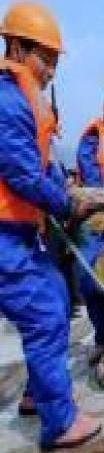boots: (48, 413, 103, 449), (18, 392, 38, 414)
hard-hat: (1, 1, 61, 53)
ppe-suit: (0, 63, 88, 447)
vest: (2, 63, 62, 222)
